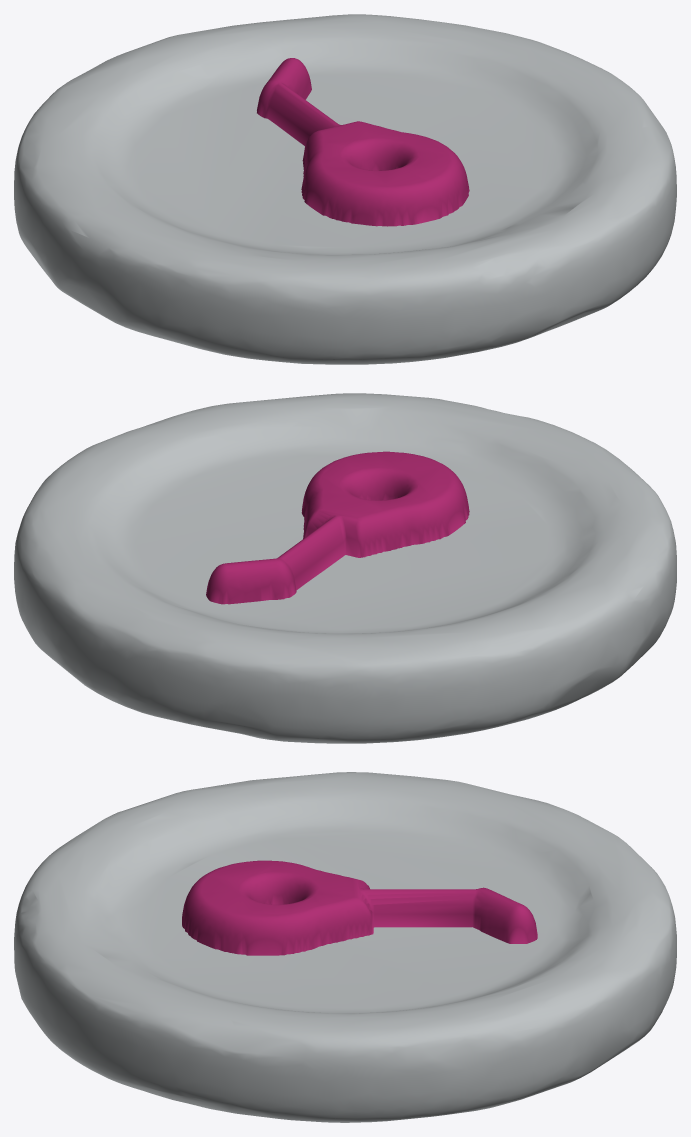
File: token-bard-blue-draco.glb
3 views of the same model, one above another, from view 1: azimuth 30°, elevation 25°; view 2: azimuth 150°, elevation 25°; view 3: azimuth 270°, elevation 25° (orthographic).
Parts seen in each view (by area): view 1: token_bard_blue; view 2: token_bard_blue; view 3: token_bard_blue.
Part boxes in pixels (x1,y1,x2,y2): token_bard_blue: [14, 14, 676, 364]; token_bard_blue: [14, 393, 676, 743]; token_bard_blue: [14, 772, 676, 1122].
Size of the model in its own units: 0.414 by 0.072 by 0.414.
